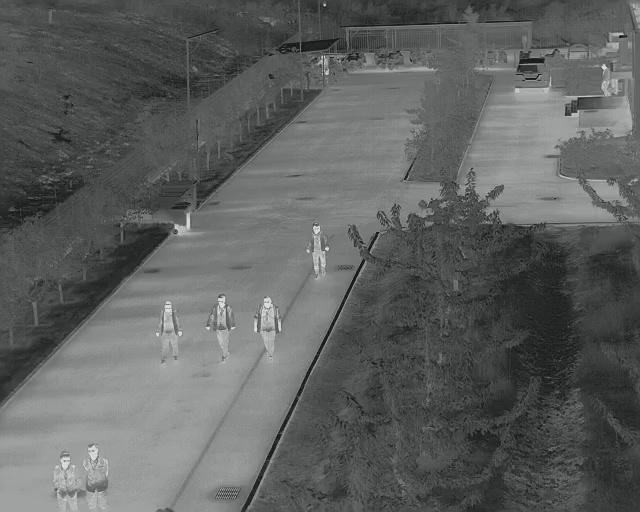person: (253, 291, 282, 364), (83, 442, 113, 512), (208, 292, 237, 362), (55, 452, 84, 510), (157, 297, 180, 366), (307, 221, 332, 280), (598, 63, 613, 95)
vehicle: (514, 54, 554, 93)
